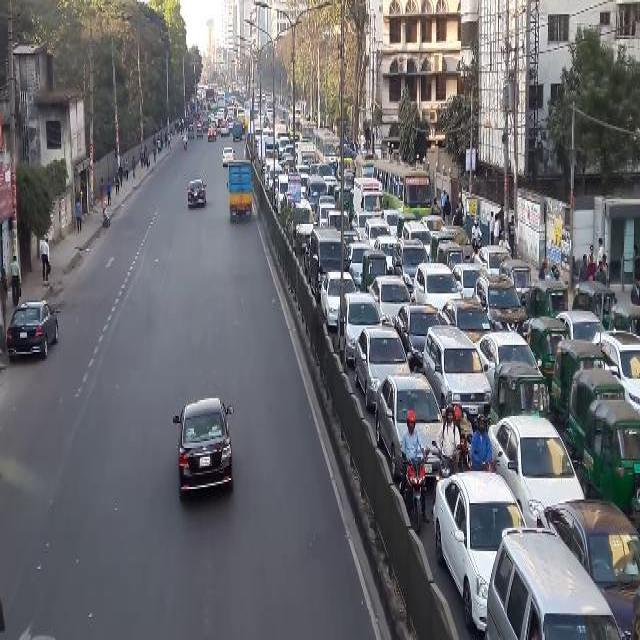bike: (401, 409, 434, 532), (432, 402, 462, 521), (465, 412, 503, 476), (183, 135, 188, 149)
vehicle: (485, 525, 624, 640), (433, 471, 529, 631), (542, 496, 638, 622), (491, 417, 586, 520), (375, 371, 446, 488), (174, 397, 239, 505), (424, 323, 490, 419), (583, 400, 637, 505), (569, 371, 625, 460), (354, 324, 412, 407), (475, 331, 546, 389), (522, 314, 571, 396), (373, 157, 433, 218), (492, 360, 551, 421), (338, 291, 383, 365), (395, 303, 446, 364), (9, 296, 58, 357), (310, 227, 350, 301), (594, 330, 639, 387), (414, 263, 462, 309), (320, 272, 356, 331), (371, 276, 413, 324), (393, 237, 429, 292), (558, 309, 607, 344), (576, 284, 616, 326), (229, 157, 256, 218), (533, 276, 569, 320), (501, 255, 534, 296), (355, 177, 385, 220), (292, 197, 316, 249), (402, 219, 434, 256), (345, 243, 373, 285), (363, 248, 388, 294), (474, 245, 513, 273), (313, 127, 341, 163), (305, 174, 329, 213), (365, 218, 393, 250), (441, 224, 471, 251), (438, 243, 463, 268), (611, 305, 639, 326), (265, 135, 280, 174), (298, 140, 317, 168), (275, 175, 289, 211), (263, 136, 279, 166), (421, 213, 445, 233), (189, 181, 208, 206), (356, 152, 375, 177), (232, 117, 243, 142), (223, 147, 236, 165), (196, 121, 204, 137), (188, 124, 194, 138)
